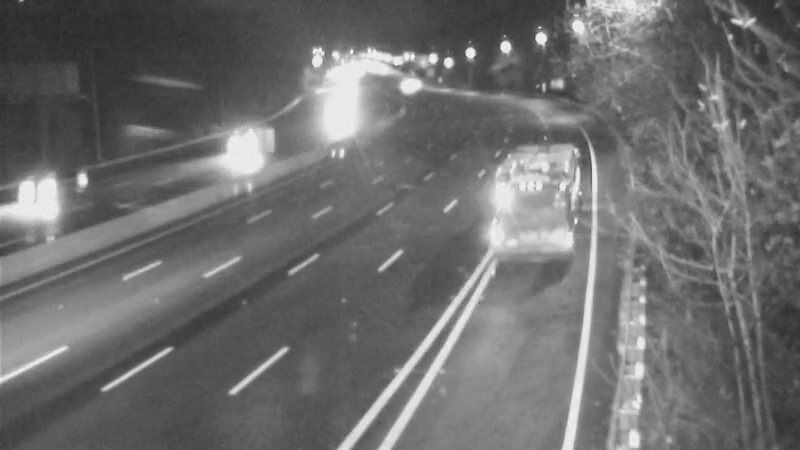vehicle: (485, 154, 565, 234), (6, 147, 86, 227), (213, 119, 263, 169)
